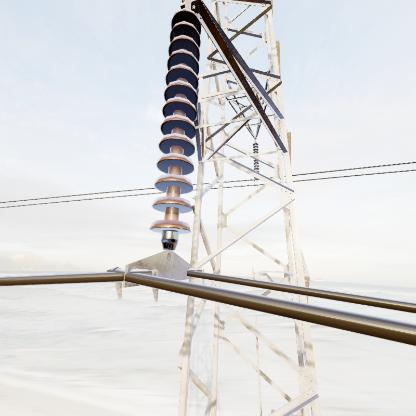insulator: (147, 5, 208, 253)
